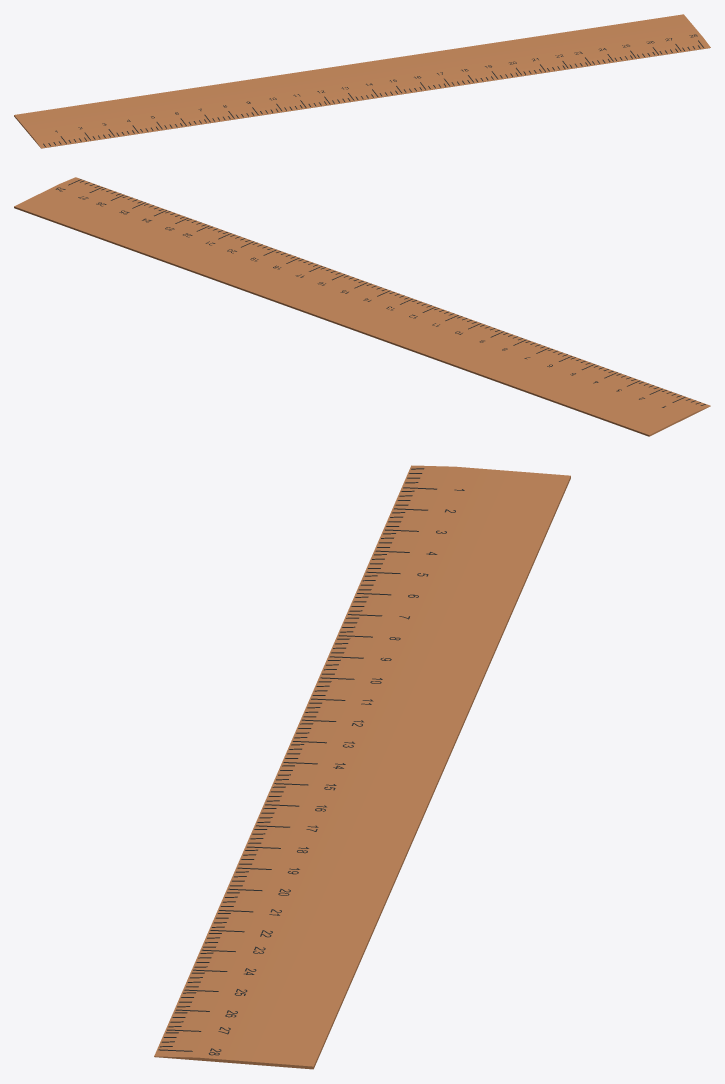
3 renders of one model, top to bottom at view 1: azimuth 30°, elevation 25°; view 2: azimuth 150°, elevation 25°; view 3: azimuth 270°, elevation 25°, orthographic. The views are drawn at different scales.
Parts seen in each view (by area): view 1: Box22322; view 2: Box22322; view 3: Box22322.
Part boxes in pixels (x1,y1,x2,y2): Box22322: (14,14,710,148); Box22322: (14,177,710,436); Box22322: (154,465,570,1069).
Bounding box in the file's own units: 302189 × 690 × 88228.
